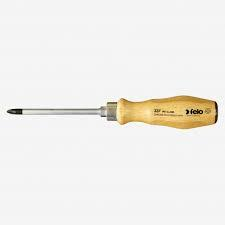screwdriver: (5, 92, 217, 129)
